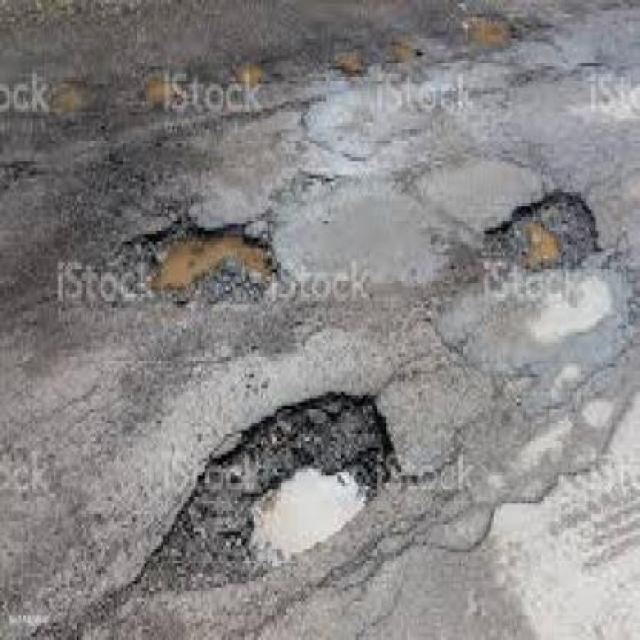pothole: (120, 380, 398, 594), (107, 206, 278, 302), (475, 178, 600, 272)
